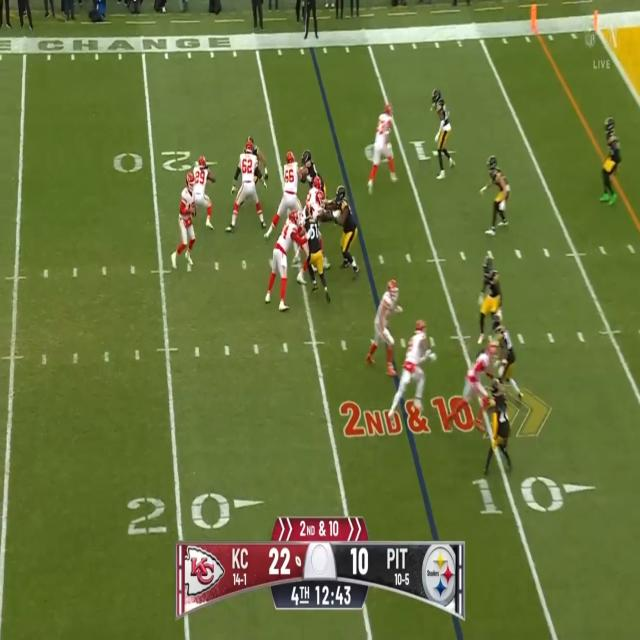Ball: (191, 202, 198, 218)
